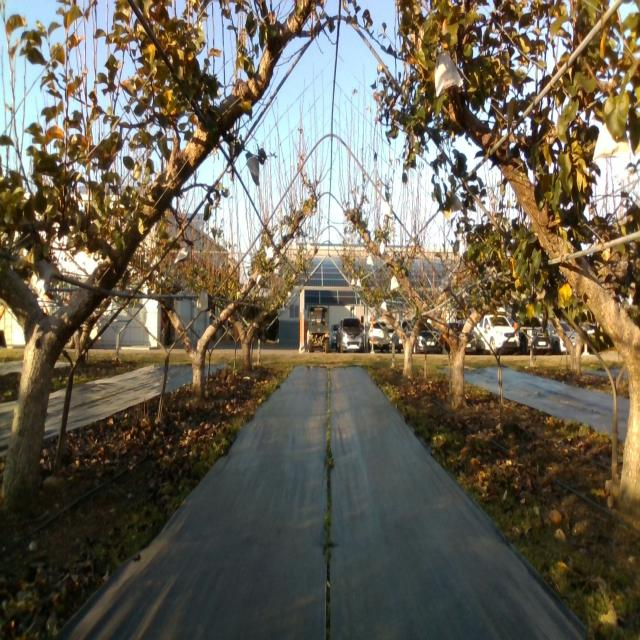pearbags: (593, 120, 630, 160), (434, 51, 464, 98), (28, 260, 53, 298), (247, 156, 260, 186), (174, 242, 191, 264), (448, 192, 463, 214), (441, 274, 452, 294)
